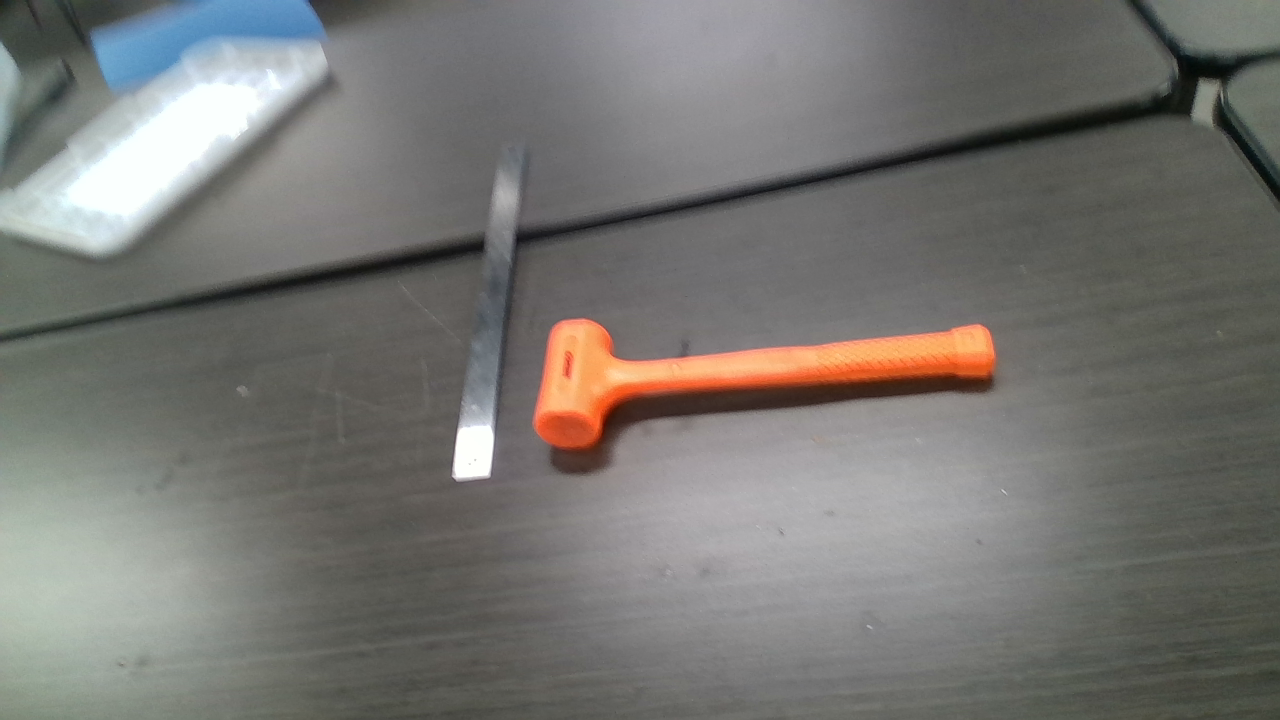Orange Hammer: (538, 318, 996, 450)
